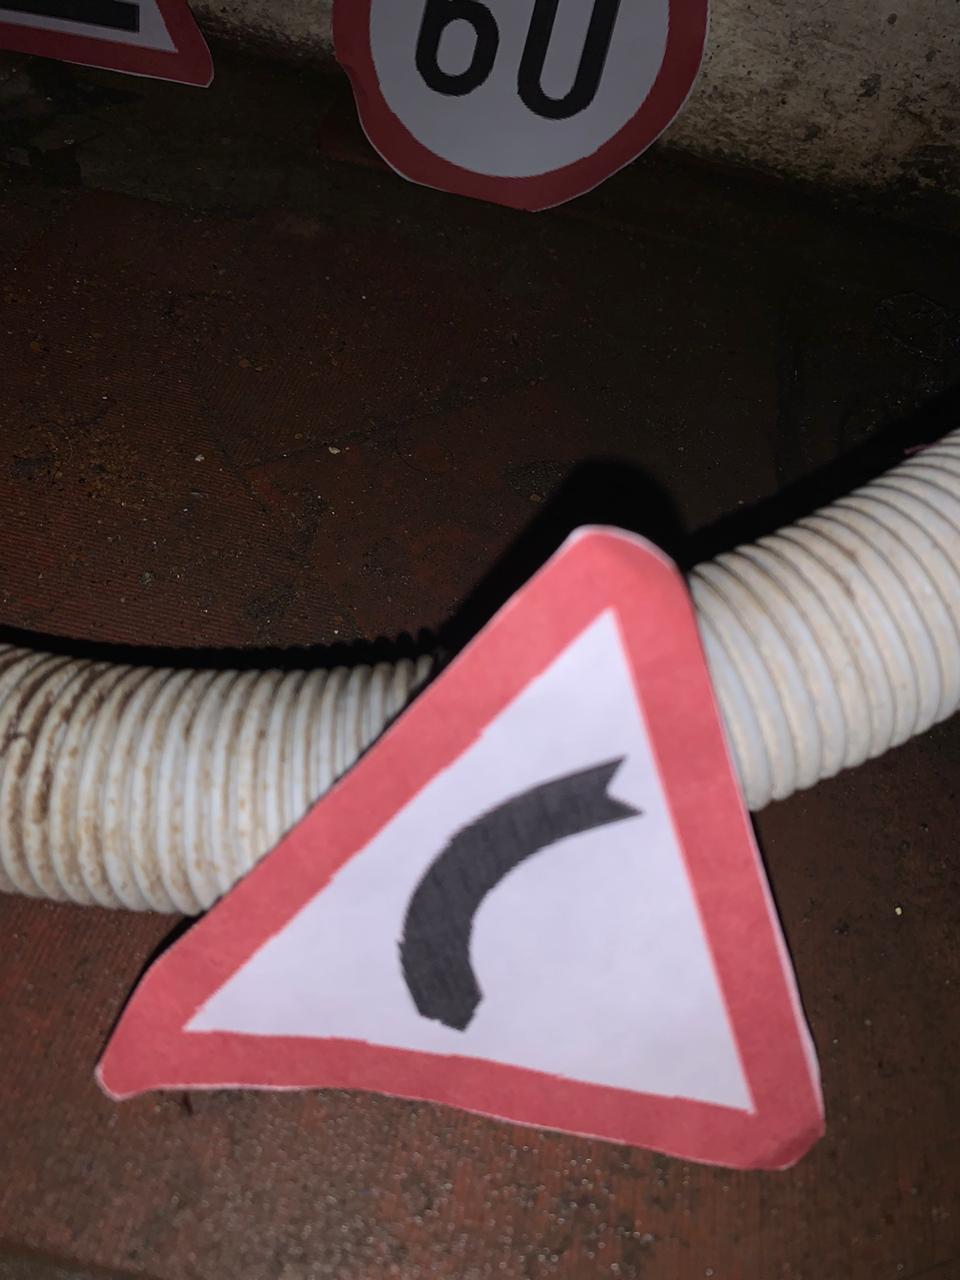LEFT CURVE: (61, 487, 864, 1187)
SPEED LIMIT (60 KM/H): (343, 1, 728, 258)
